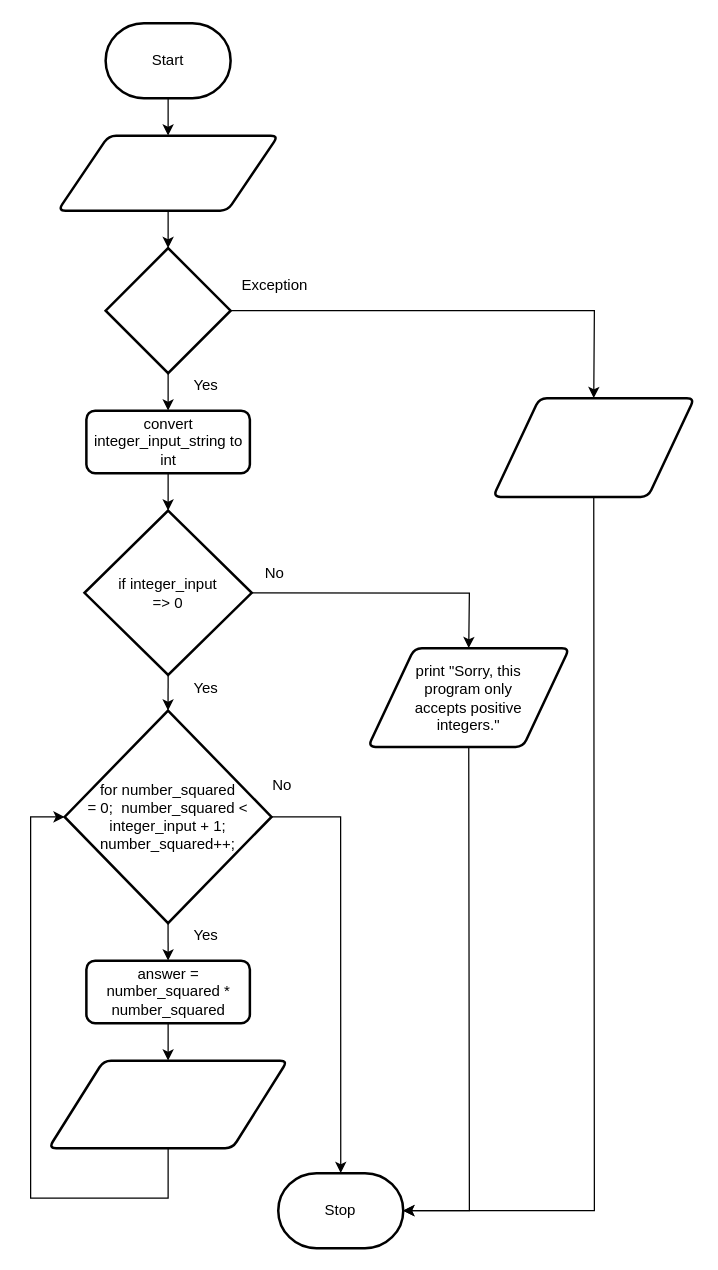
Some shapes in this 718 by 1270 pixel diagram are drawn without their labels. The shapes that lost their labels are listed below. From the top down, each one's centre as x and y in pixels, then its label:
(167,172): get integer_input_string
(167,310): Try
(593,447): print "Sorry, that is not a valid integer."
(167,1104): print "number_squared² = answer"
